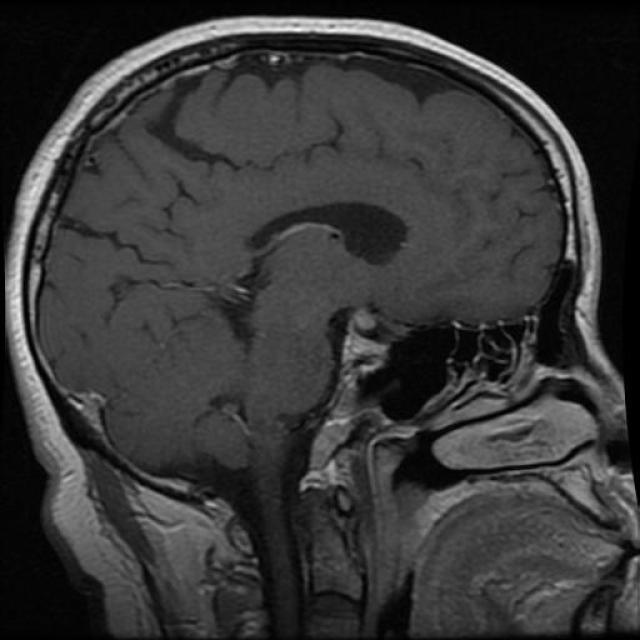pituitary: (298, 292, 388, 484)
